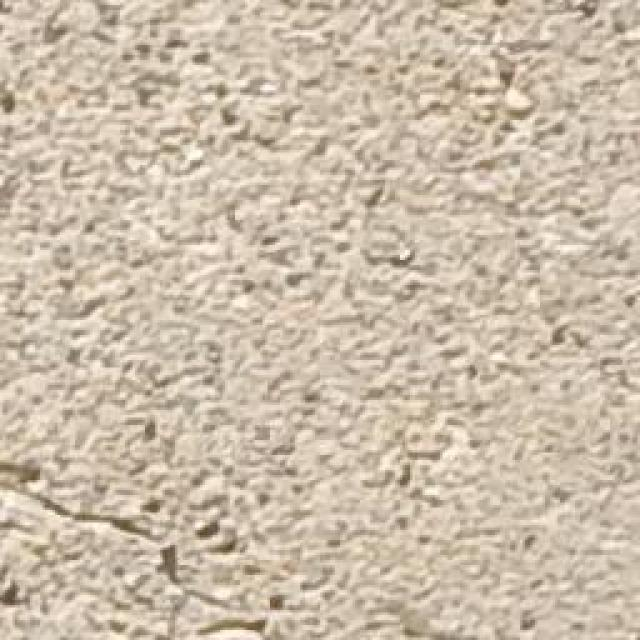concrete-crack: (0, 462, 185, 640)
